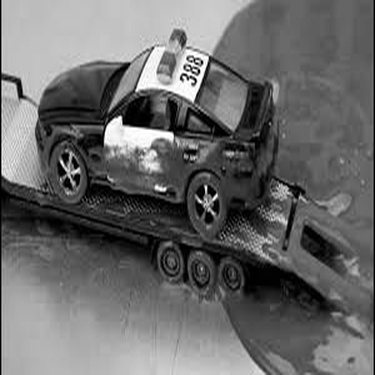car: (26, 25, 280, 238)
